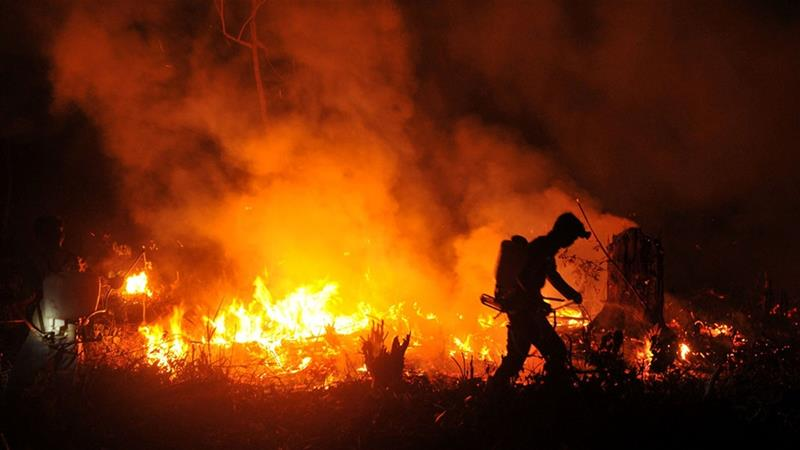fire: (218, 286, 344, 344)
smoke: (131, 30, 479, 284)
